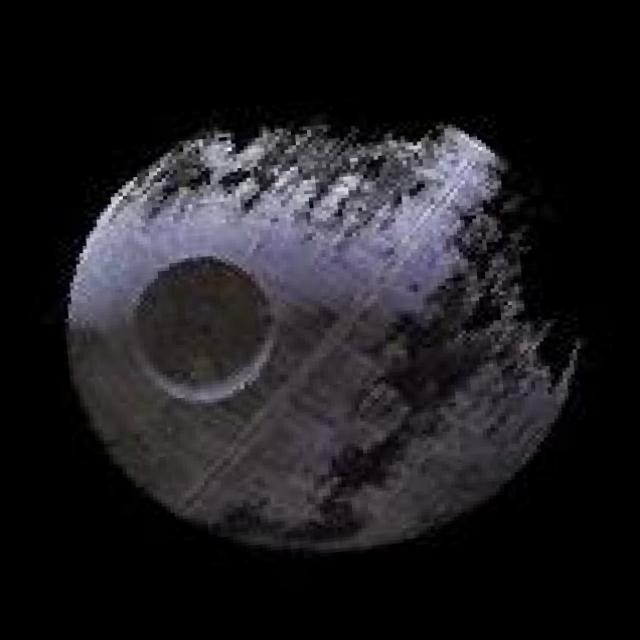Death Star: (39, 88, 608, 584)
